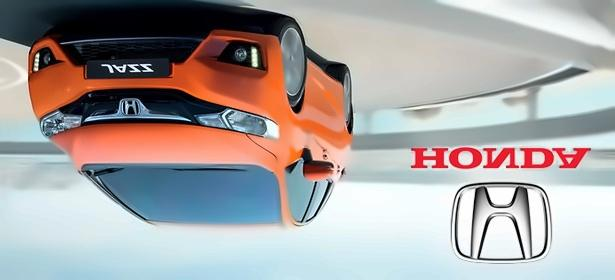Car hood: (46, 123, 277, 171)
Driver-s door - -F-R-: (280, 40, 322, 232)
Front bumper: (22, 23, 285, 119)
Headlight - -L-: (40, 103, 86, 139)
Headlight - -R-: (192, 106, 278, 138)
Passenger-s door - -R-R-: (305, 61, 342, 228)
Side bumper - -R-: (306, 52, 346, 109)
Side mirror - -R-: (301, 155, 334, 184)
